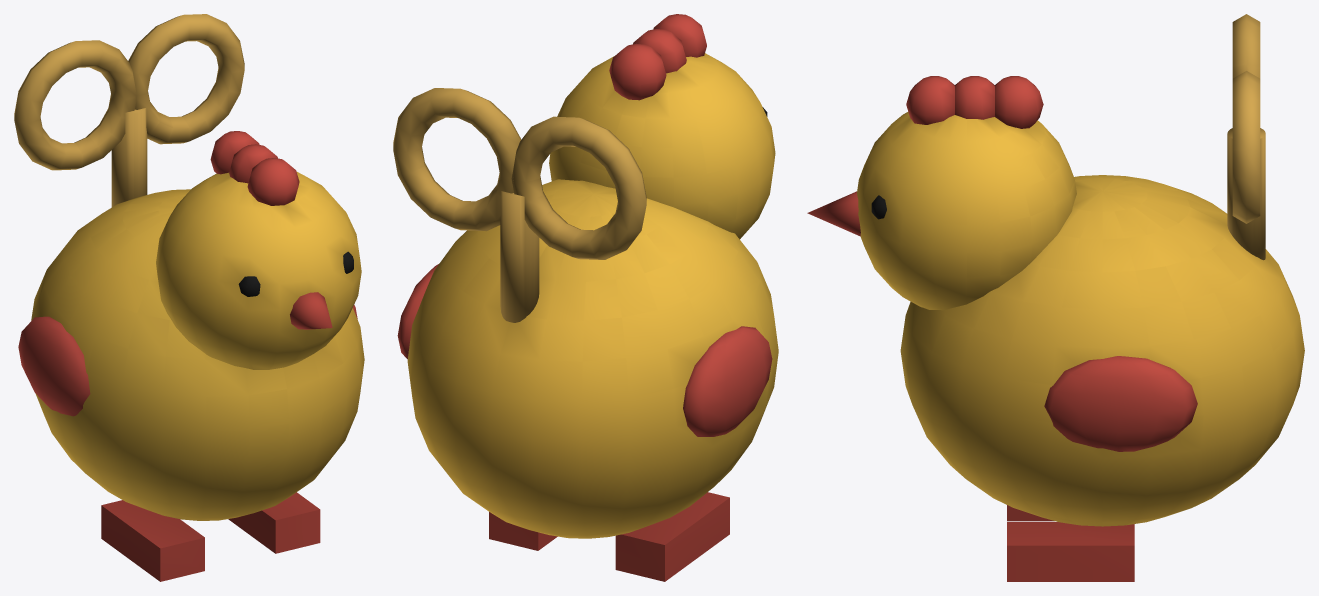
Rendered from den_windup_chick.glb.
The picture shows the model from 3 angles, left to right: view 1: azimuth 30°, elevation 25°; view 2: azimuth 150°, elevation 25°; view 3: azimuth 270°, elevation 25°; orthographic projection. The views are drawn at different scales.
Parts seen in each view (by area): view 1: den_windup_chick; view 2: den_windup_chick; view 3: den_windup_chick.
Part boxes in pixels (x1,y1,x2,y2): den_windup_chick: [14, 14, 364, 581]; den_windup_chick: [393, 14, 778, 581]; den_windup_chick: [807, 14, 1304, 581].
Bounding box in the file's own units: 2.33 × 3.39 × 3.12.
